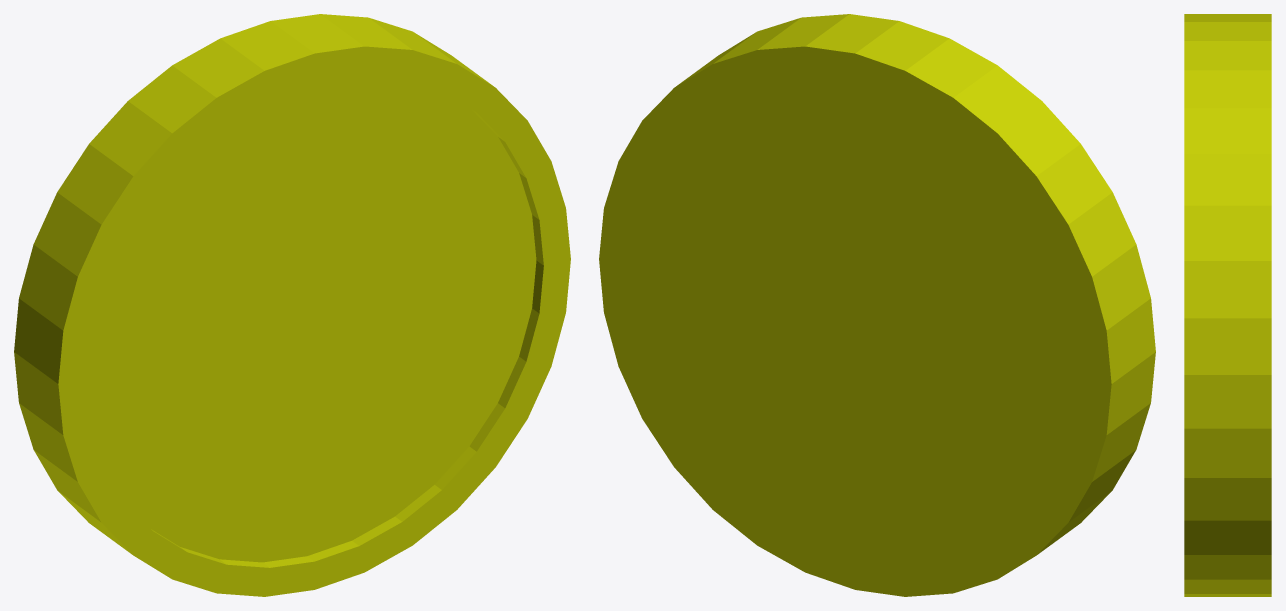
The model's file is puck.dae.
3 renders of one model, left to right at view 1: azimuth 30°, elevation 25°; view 2: azimuth 150°, elevation 25°; view 3: azimuth 270°, elevation 25°, orthographic.
Visible parts, largest first — view 1: Cylinder; view 2: Cylinder; view 3: Cylinder.
Boxes of the visible parts, x1,y1,x2,y2 form: Cylinder: [14, 14, 570, 596]; Cylinder: [599, 14, 1155, 596]; Cylinder: [1184, 14, 1271, 596].
Size of the model in its own units: 2 by 0.3 by 2.
